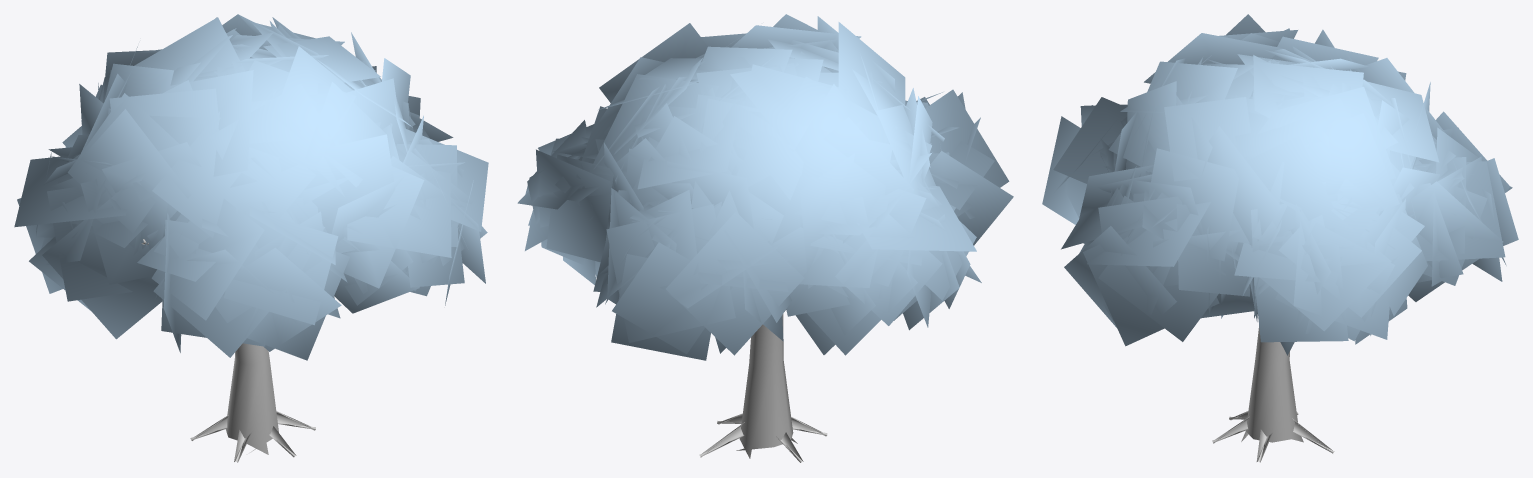
The model's file is linden_broad.gltf.
3 views of the same model, side by side, from view 1: azimuth 30°, elevation 25°; view 2: azimuth 150°, elevation 25°; view 3: azimuth 270°, elevation 25° (orthographic). The views are drawn at different scales.
Parts seen in each view (by area): view 1: linden_broad_Leaf_Dark, linden_broad_Bark_Brown; view 2: linden_broad_Leaf_Dark, linden_broad_Bark_Brown; view 3: linden_broad_Leaf_Dark, linden_broad_Bark_Brown.
Boxes of the visible parts, bbox=[...] form: linden_broad_Leaf_Dark: bbox=[14, 14, 488, 360]; linden_broad_Bark_Brown: bbox=[141, 239, 315, 462]; linden_broad_Leaf_Dark: bbox=[517, 14, 1013, 360]; linden_broad_Bark_Brown: bbox=[699, 309, 827, 462]; linden_broad_Leaf_Dark: bbox=[1042, 14, 1518, 355]; linden_broad_Bark_Brown: bbox=[1212, 326, 1334, 462].
Size of the model in its own units: 9.91 by 8.81 by 9.68.
